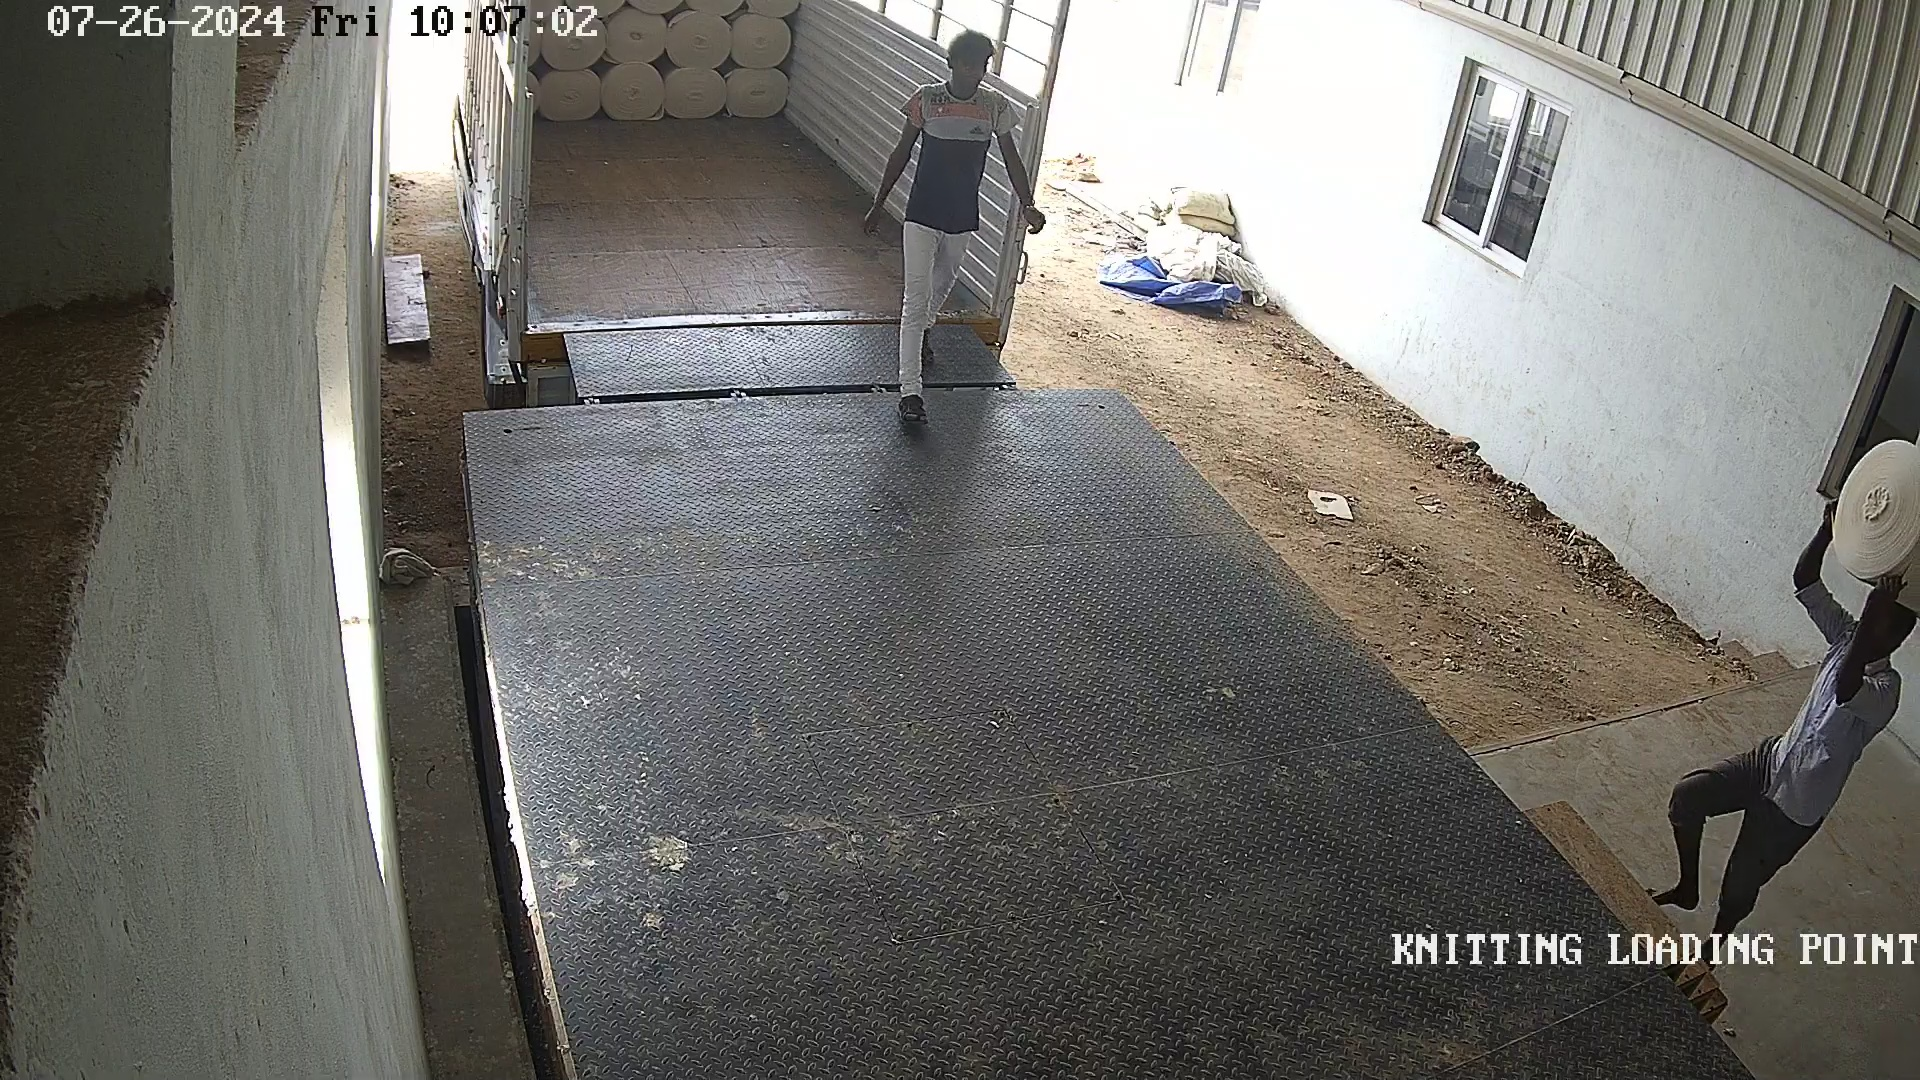bag: (1820, 426, 1920, 615)
